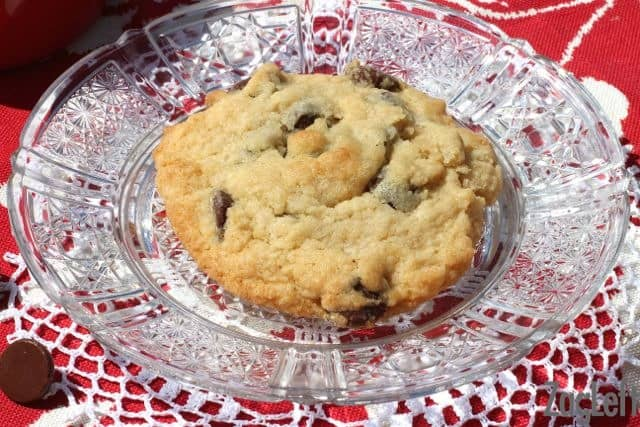cookie: (141, 58, 507, 341)
